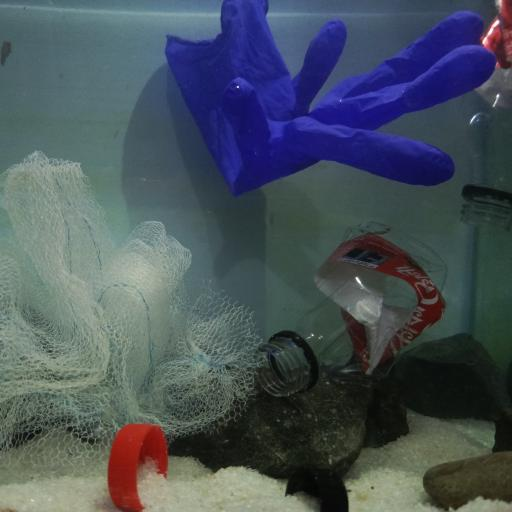bottle_cap: (108, 422, 168, 512), (284, 464, 348, 512)
glove: (163, 0, 497, 194)
net: (2, 150, 266, 461)
plastic_bottle: (256, 218, 452, 395), (461, 0, 512, 224)
